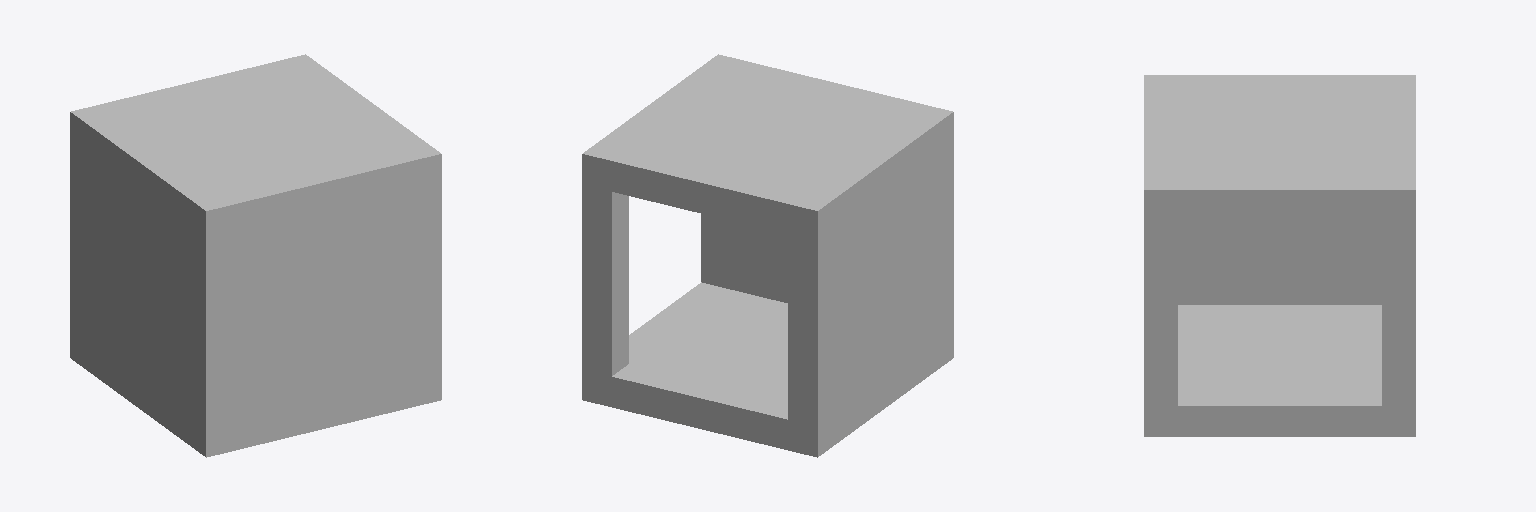
File: PieceL.obj
3 views of the same model, side by side, from view 1: azimuth 30°, elevation 25°; view 2: azimuth 150°, elevation 25°; view 3: azimuth 270°, elevation 25° (orthographic).
Parts seen in each view (by area): view 1: L-Piece_Cube.004; view 2: L-Piece_Cube.004; view 3: L-Piece_Cube.004.
Part boxes in pixels (x1,y1,x2,y2): L-Piece_Cube.004: (70,54,441,457); L-Piece_Cube.004: (582,54,953,457); L-Piece_Cube.004: (1144,75,1415,436).
Bounding box in the file's own units: 2 × 2 × 2.